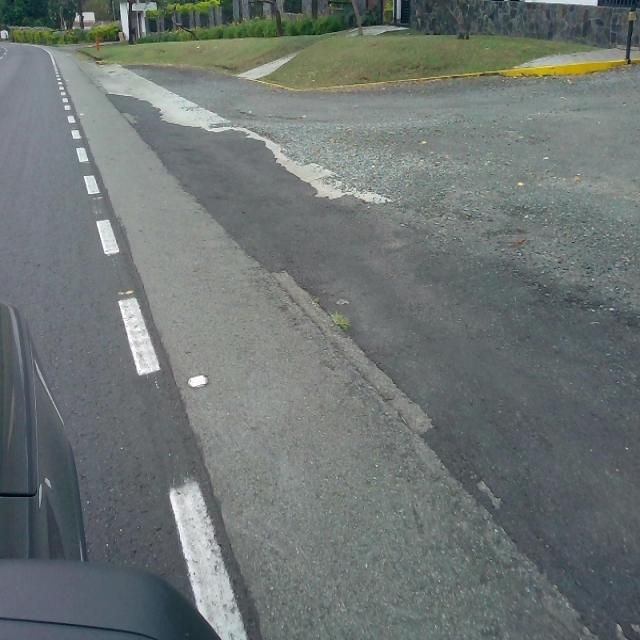DITCH: (53, 15, 638, 638), (69, 49, 638, 638)
